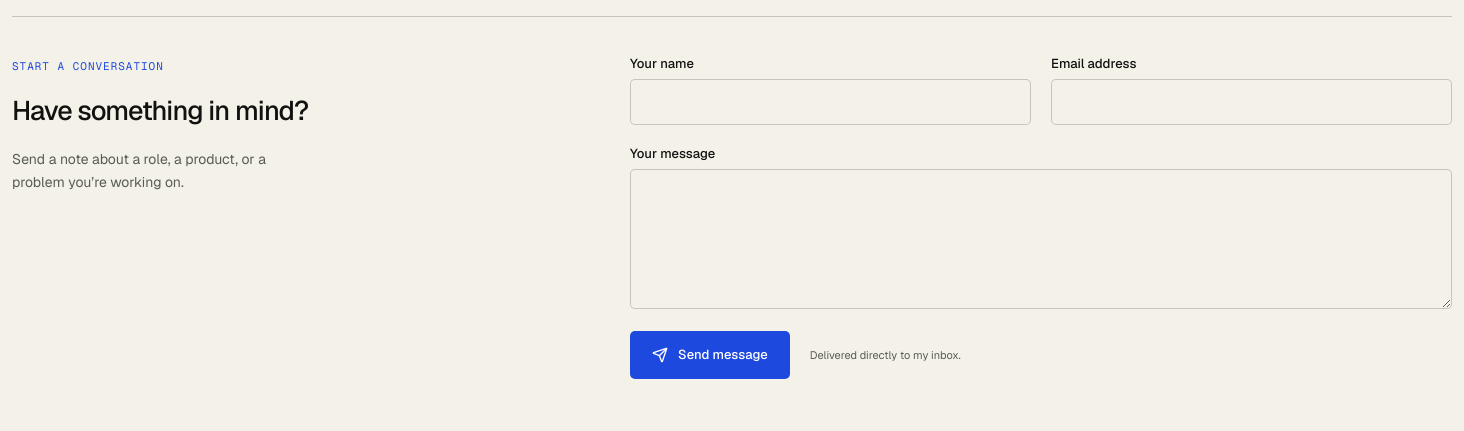
Test: retains the message and provides a direct email fallback on failure
This screenshot has width=1464, height=431.
Type "Test Person" into the field labelled "Your name".
click(830, 102); type("Test Person")  # box [630,79,1031,125]
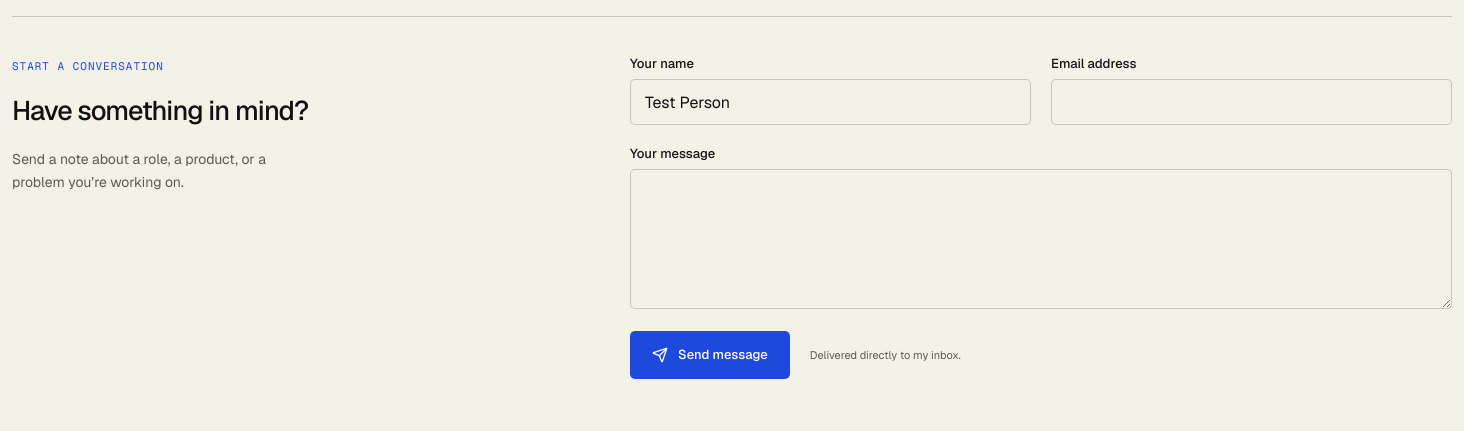
Type "test@example.com" into the field labelled "Email address".
click(1252, 102); type("test@example.com")  # box [1051,79,1452,125]
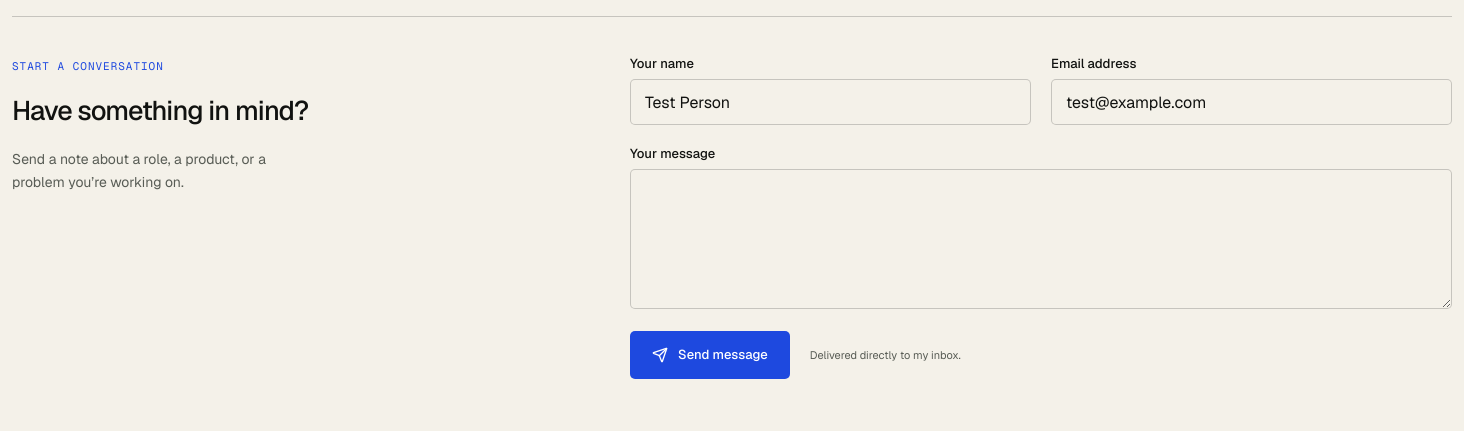
Type "<script>alert(\"hello\")</script> This stays plain text." into the text box labelled "Your message".
click(1041, 239); type("<script>alert(\"hello\")</script> This stays plain text.")  # box [630,169,1452,309]
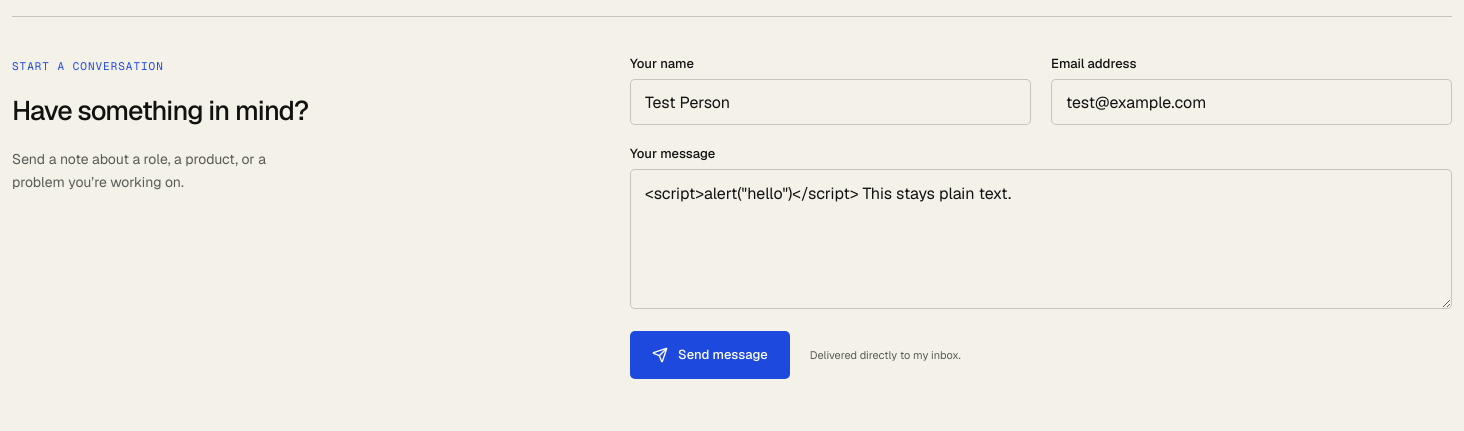
Click the button "Send message".
click(710, 355)  # box [630,331,790,379]
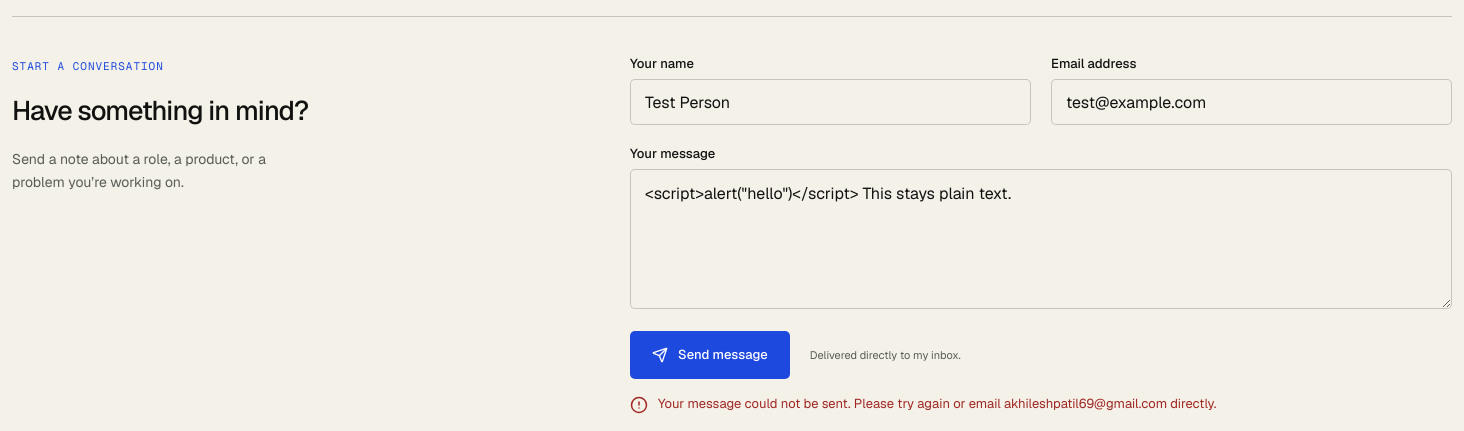
Check: the text "Your message could not be sent" is shown, box [658,395,1216,412]
